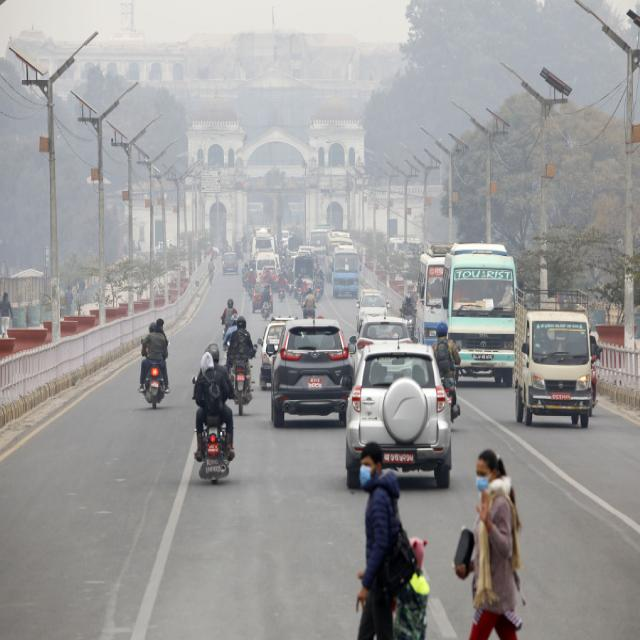moderate_traffic: (134, 181, 605, 640)
